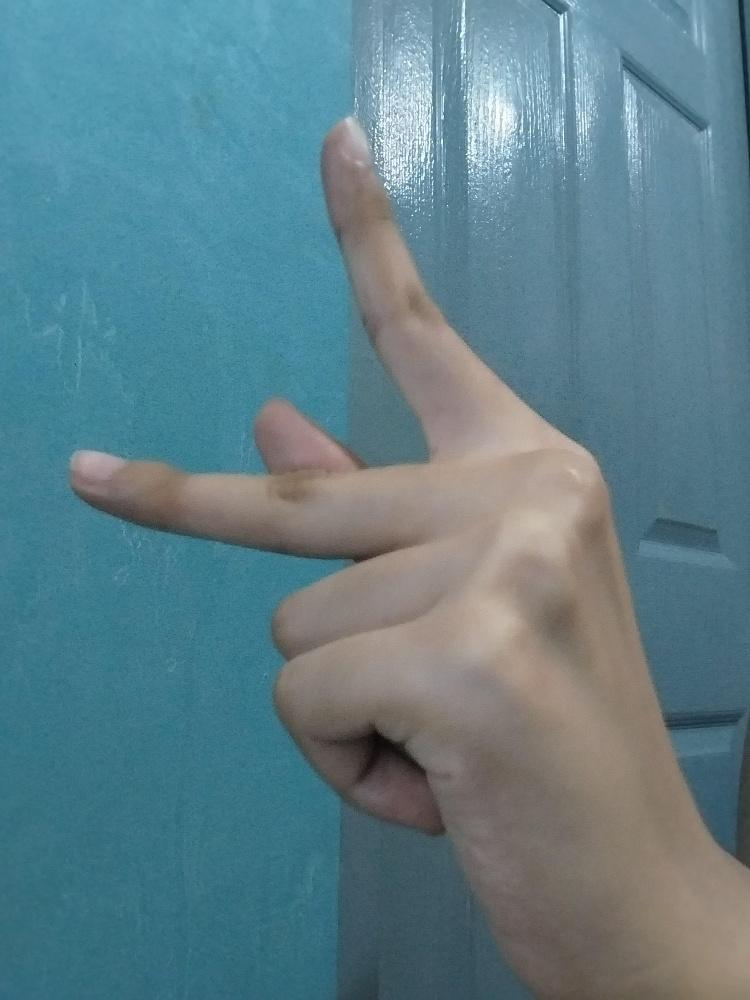k: (67, 109, 673, 987)
